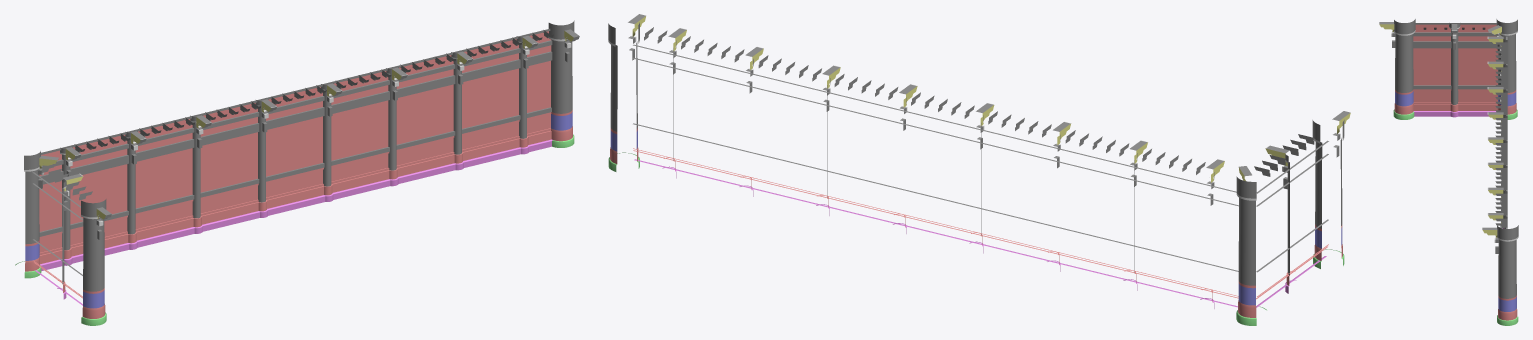
The model's file is SM_ENV_KNVLLG03_Bridge_ConnectorC_2.gltf.
3 renders of one model, left to right at view 1: azimuth 30°, elevation 25°; view 2: azimuth 150°, elevation 25°; view 3: azimuth 270°, elevation 25°, orthographic. The views are drawn at different scales.
Visible parts, largest first — view 1: SM_ENV_KNVLLG03_Bridge_ConnectorC_2; view 2: SM_ENV_KNVLLG03_Bridge_ConnectorC_2; view 3: SM_ENV_KNVLLG03_Bridge_ConnectorC_2.
Boxes of the visible parts, left/top/right/bottom form: SM_ENV_KNVLLG03_Bridge_ConnectorC_2: left=15, top=20, right=579, bottom=325; SM_ENV_KNVLLG03_Bridge_ConnectorC_2: left=608, top=14, right=1350, bottom=325; SM_ENV_KNVLLG03_Bridge_ConnectorC_2: left=1379, top=19, right=1518, bottom=325.
Size of the model in its own units: 27.86 by 5.86 by 7.64.
